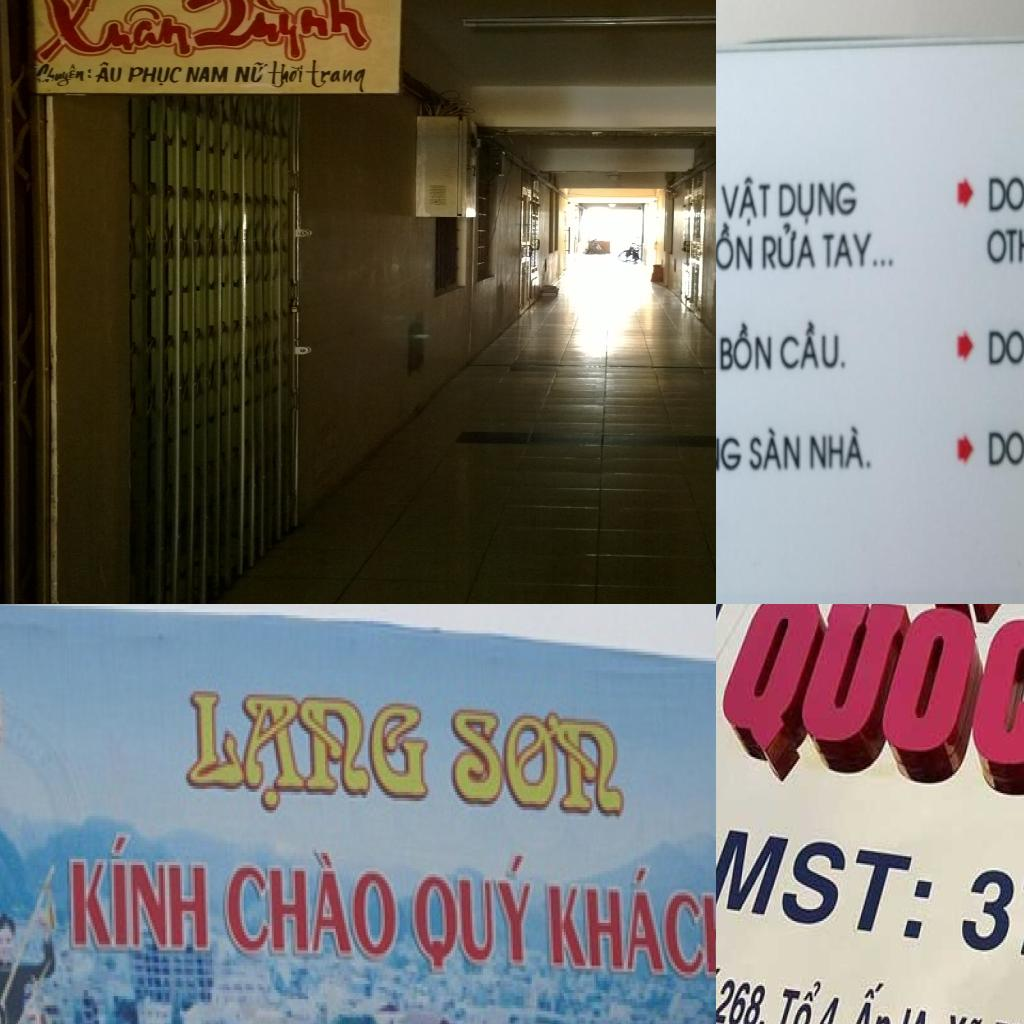text: (716, 604, 1024, 839), (716, 806, 949, 950), (184, 688, 434, 816), (449, 700, 628, 822), (223, 846, 402, 962), (546, 859, 716, 981), (69, 832, 212, 954), (410, 850, 538, 981), (174, 0, 381, 62), (35, 0, 202, 68), (780, 317, 847, 370), (779, 182, 858, 226), (716, 970, 776, 1024), (809, 425, 873, 471), (770, 975, 827, 1024), (822, 232, 895, 270), (838, 977, 897, 1024), (719, 175, 772, 227), (719, 320, 772, 372), (761, 223, 817, 271), (749, 427, 801, 472), (716, 222, 753, 273), (806, 986, 851, 1024), (986, 223, 1024, 264), (32, 61, 89, 88), (987, 173, 1024, 213), (716, 422, 743, 473), (122, 66, 183, 88), (988, 329, 1024, 365), (988, 430, 1024, 466), (935, 1002, 989, 1024), (889, 999, 935, 1024), (266, 62, 307, 90), (181, 64, 232, 84), (232, 59, 271, 85), (92, 61, 127, 83)
